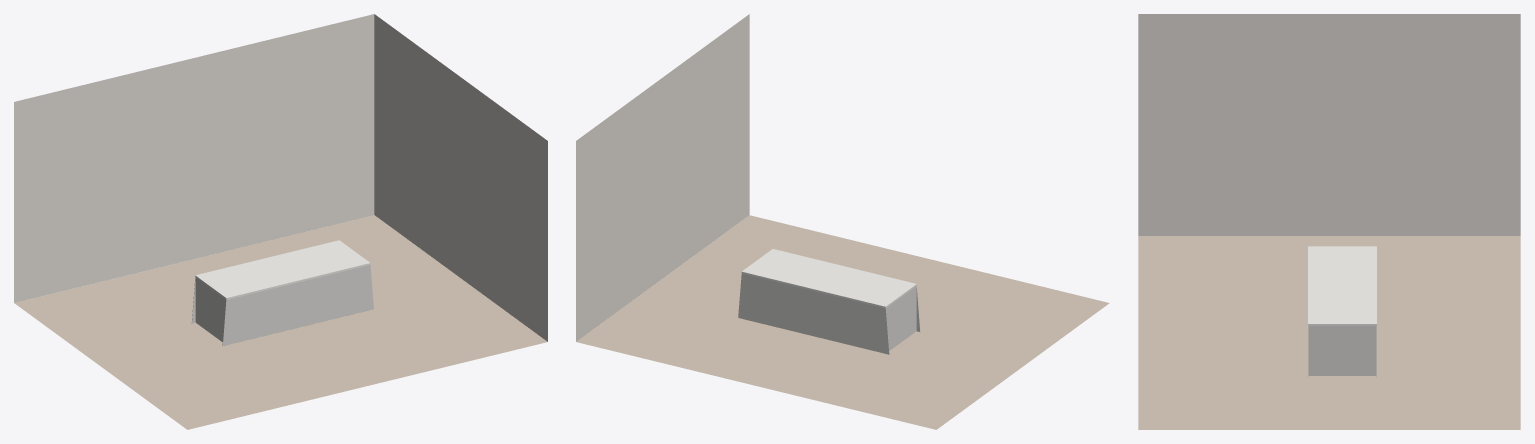
The model's file is mesa-rectangular.glb.
3 views of the same model, side by side, from view 1: azimuth 30°, elevation 25°; view 2: azimuth 150°, elevation 25°; view 3: azimuth 270°, elevation 25° (orthographic). The views are drawn at different scales.
Parts seen in each view (by area): view 1: sala, decoracion; view 2: sala, decoracion; view 3: sala, decoracion.
Boxes of the visible parts, x1,y1,x2,y2 form: sala: (14, 14, 547, 429); decoracion: (191, 240, 373, 345); sala: (576, 14, 1109, 429); decoracion: (738, 249, 920, 354); sala: (1138, 14, 1520, 429); decoracion: (1308, 246, 1376, 377).
Bounding box in the file's own units: 6 × 3.2 × 5.
